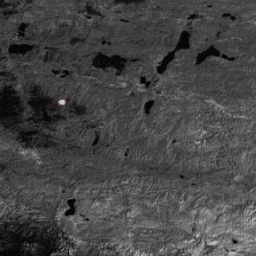Target: (57, 98, 67, 106)
